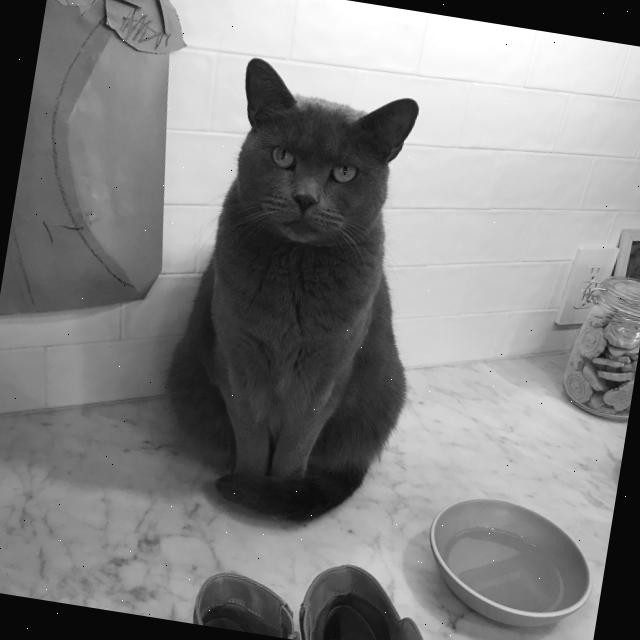russian_blue_cat: (200, 44, 432, 284)
